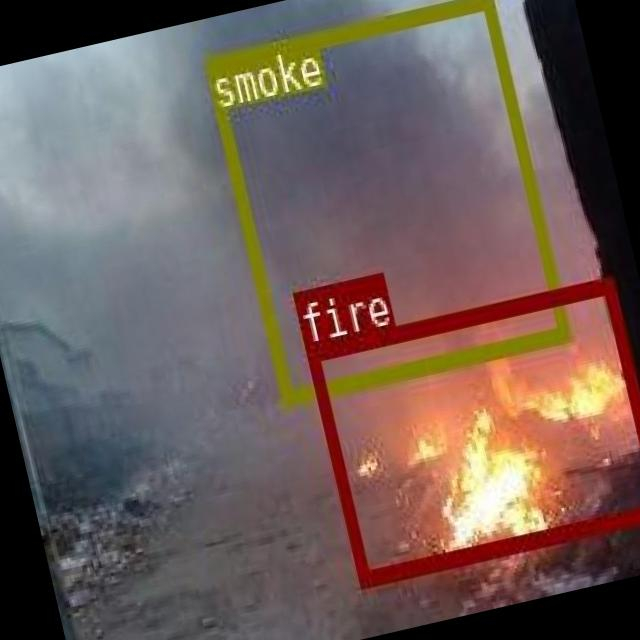fire: (303, 274, 640, 586)
smoke: (200, 0, 568, 404)
